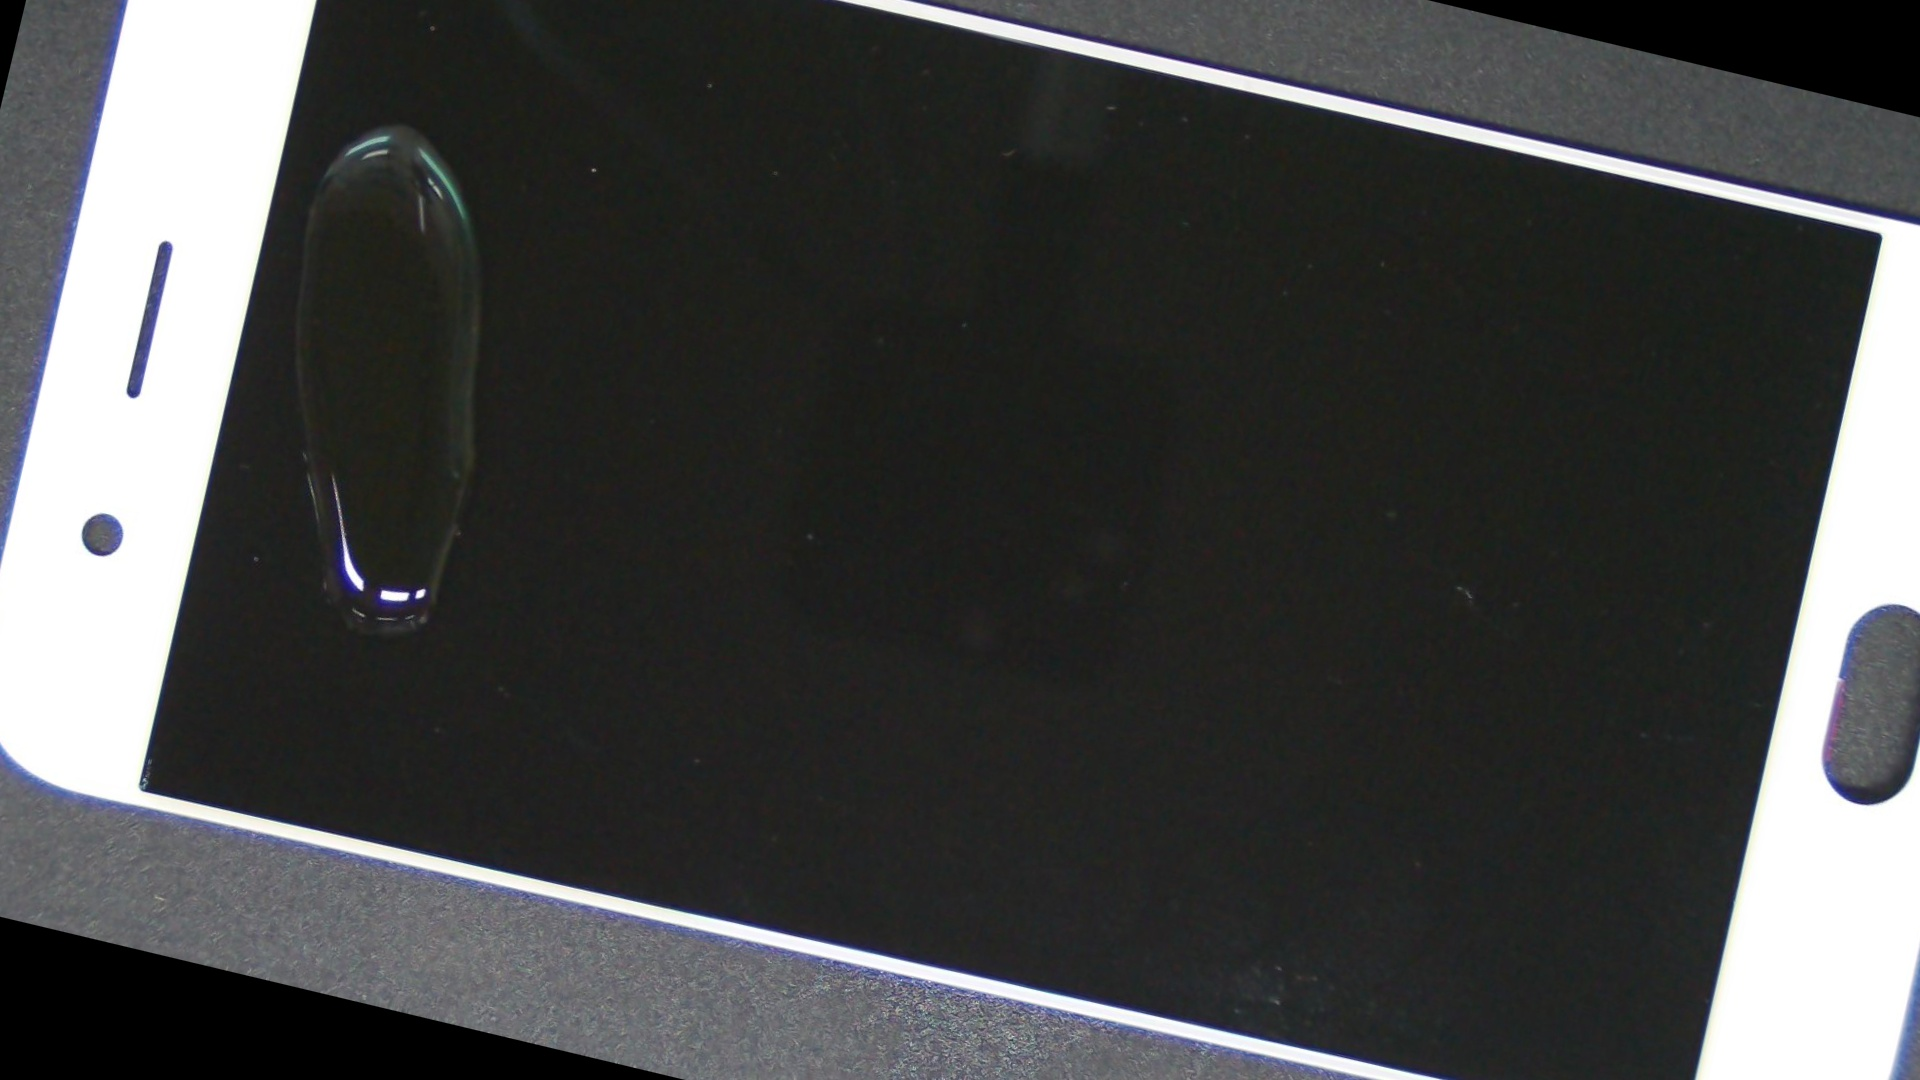oil: (170, 0, 638, 344)
